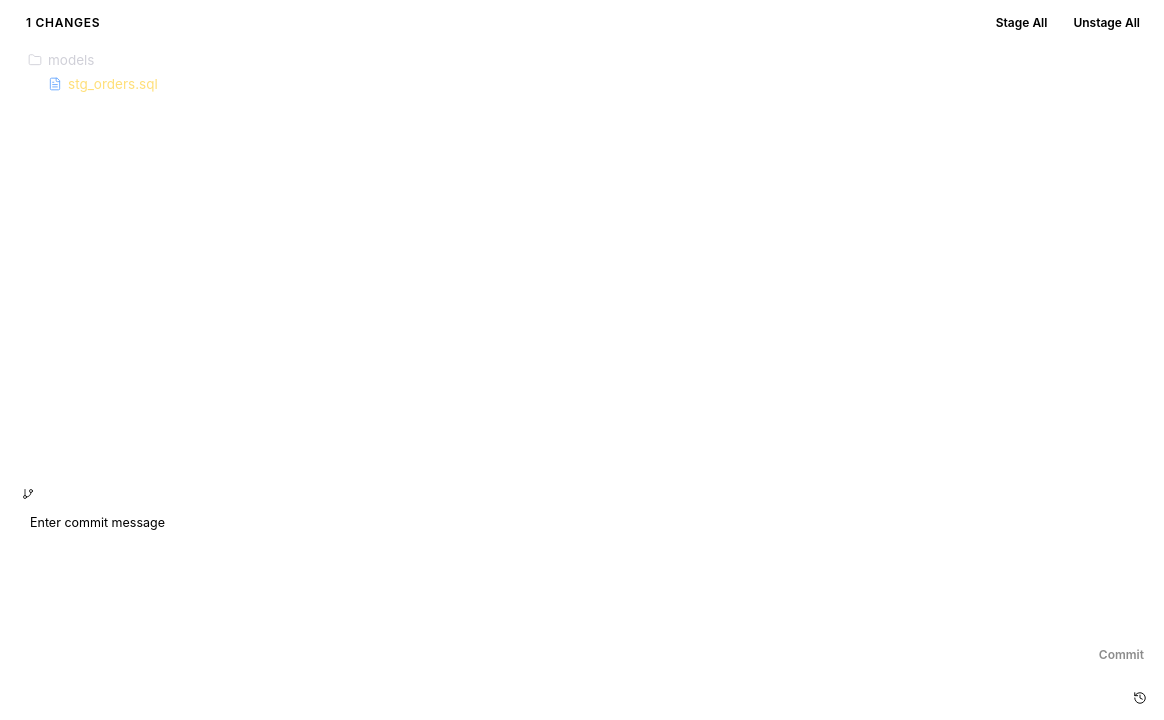
Scenario: GitChangesPane › opens a context menu with Unstage / Discard / Open on right-click
Right-click the button with test id "git-file-stg_orders.sql": (113, 84) 20,72 -> 1156,96
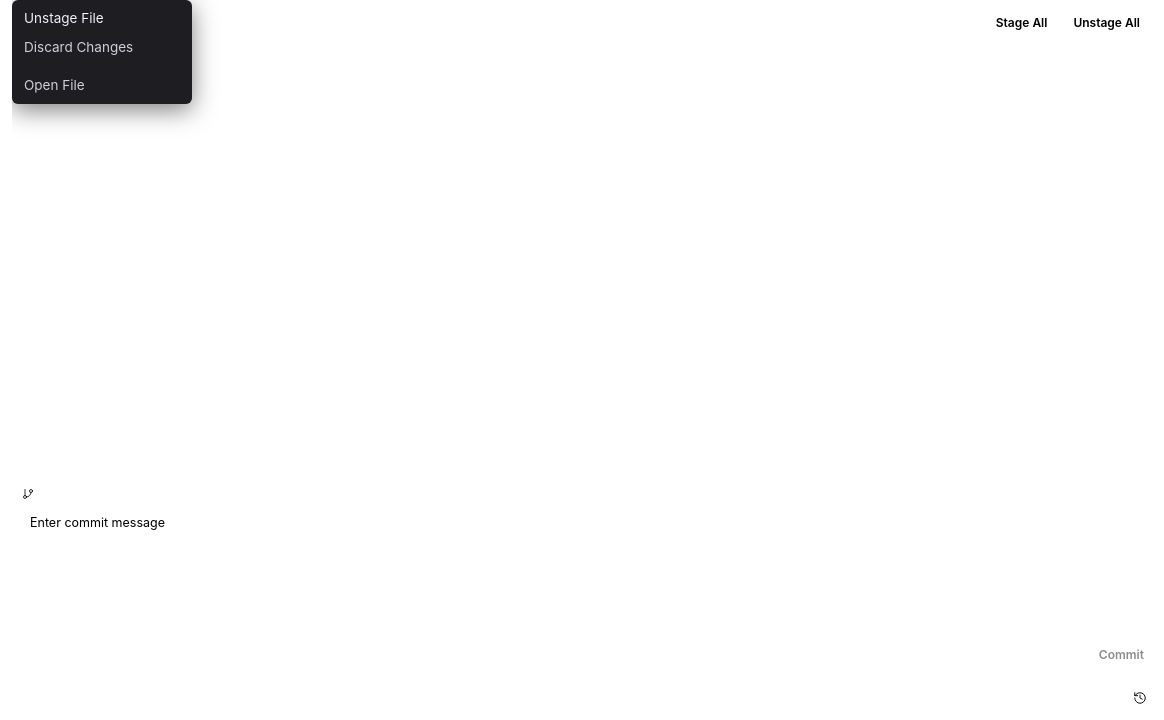
Expected: the menu item with test id "git-ctx-stage" reads "Unstage File", 12,4 -> 192,33
Expected: the menu item with test id "git-ctx-discard" is shown, 12,33 -> 192,62
Expected: the menu item with test id "git-ctx-open" is shown, 12,71 -> 192,100
